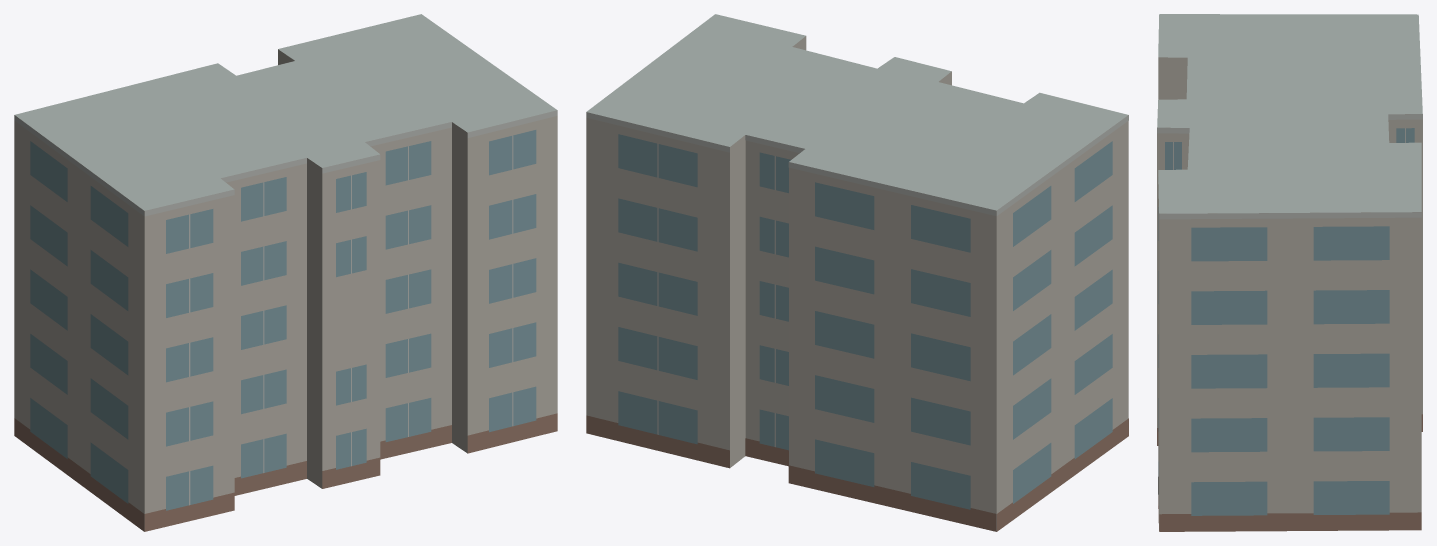
File: survey-upis-32934373.glb
3 renders of one model, left to right at view 1: azimuth 30°, elevation 25°; view 2: azimuth 150°, elevation 25°; view 3: azimuth 270°, elevation 25°, orthographic.
Parts seen in each view (by area): view 1: survey-upis-32934373.tmp; view 2: survey-upis-32934373.tmp; view 3: survey-upis-32934373.tmp.
Part boxes in pixels (<box>): survey-upis-32934373.tmp: <box>14,14,557,531</box>; survey-upis-32934373.tmp: <box>586,14,1128,531</box>; survey-upis-32934373.tmp: <box>1157,14,1422,531</box>.
Size of the model in its own units: 18.73 by 13.9 by 10.53.
